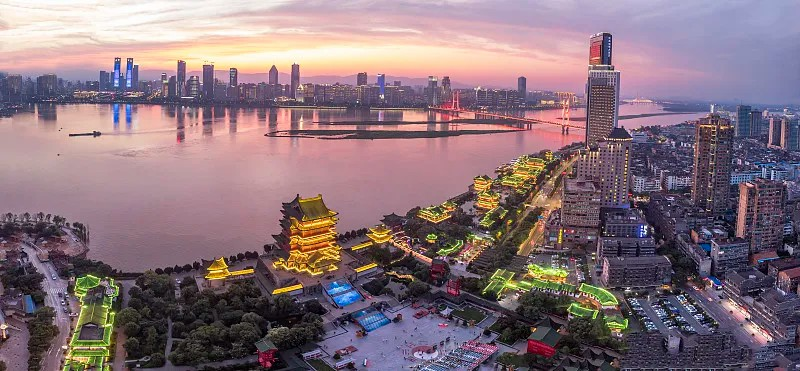Teng: (271, 195, 343, 273)
